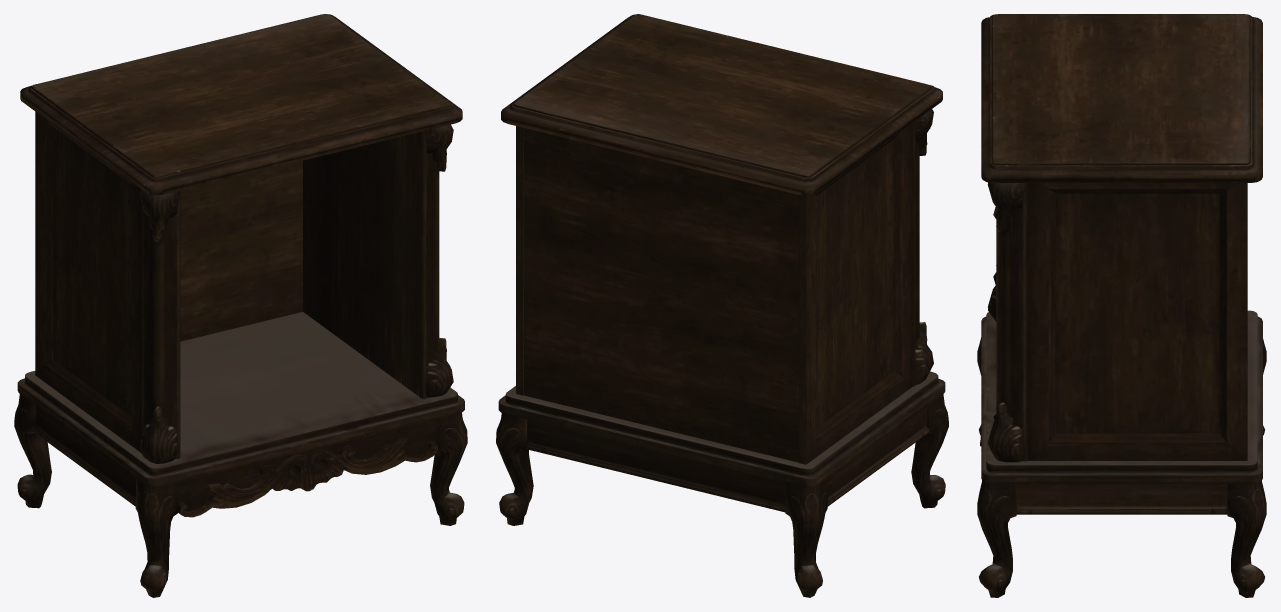
The model's file is classicnightstand_01.glb.
3 views of the same model, side by side, from view 1: azimuth 30°, elevation 25°; view 2: azimuth 150°, elevation 25°; view 3: azimuth 270°, elevation 25° (orthographic). The views are drawn at different scales.
Visible parts, largest first — view 1: ClassicNightstand_01; view 2: ClassicNightstand_01; view 3: ClassicNightstand_01.
Part boxes in pixels (x1,y1,x2,y2): ClassicNightstand_01: [14, 14, 467, 597]; ClassicNightstand_01: [496, 14, 948, 597]; ClassicNightstand_01: [977, 14, 1266, 597].
Size of the model in its own units: 0.5678 by 0.7 by 0.4242.
Materials: 1 (1 with a texture image).
